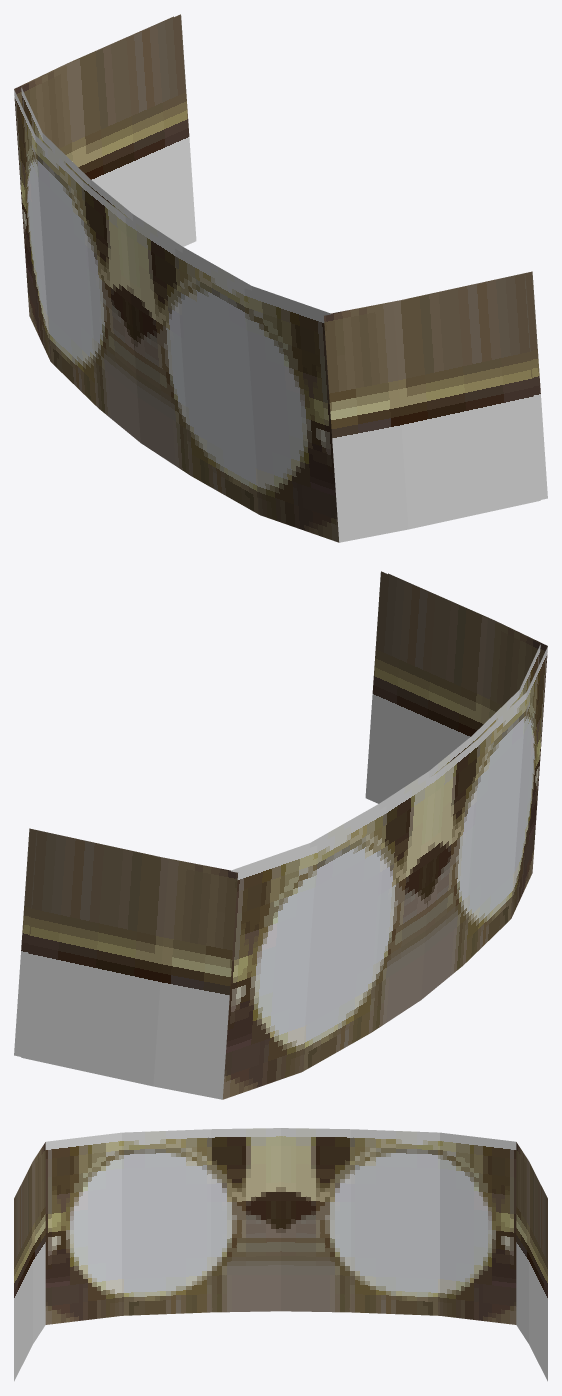
File: Rabbit_glasses.obj
3 views of the same model, one above another, from view 1: azimuth 30°, elevation 25°; view 2: azimuth 150°, elevation 25°; view 3: azimuth 270°, elevation 25° (orthographic). The views are drawn at different scales.
Parts seen in each view (by area): view 1: Rabbit_glasses_tri; view 2: Rabbit_glasses_tri; view 3: Rabbit_glasses_tri.
Part boxes in pixels (x1,y1,x2,y2): Rabbit_glasses_tri: (14,14,547,542); Rabbit_glasses_tri: (14,571,547,1099); Rabbit_glasses_tri: (14,1128,547,1381).
Bounding box in the file's own units: 0.0681 × 0.0653 × 0.168.
1 material, 1 textured.
